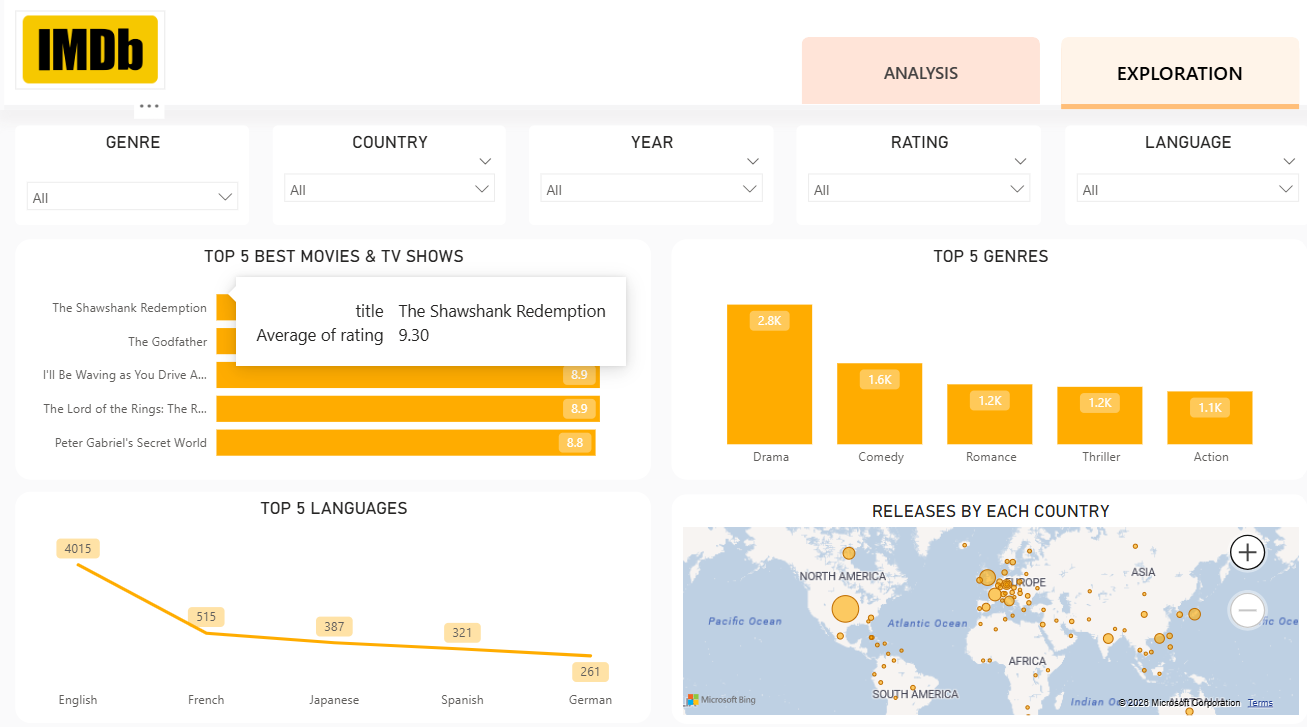

What the dashboard file says about the page in this screenshot:
{"tool":"powerbi","page":{"name":"EXPLORATION","canvas":[1280,720],"ordinal":1},"visuals":[{"type":"shape","box":[0,0,1280,113],"z":0},{"type":"pageNavigator","box":[769.4,37.2,492,75.8],"z":1000},{"type":"image","box":[15.7,17.2,144.4,75.8],"z":2000},{"type":"slicer","title":"COUNTRY","fields":{"Values":["country_count.Value"]},"box":[264,127.6,225.2,95.9],"z":3000},{"type":"slicer","title":"YEAR","fields":{"Values":["cleaned_imdb_dataset.year"]},"box":[511.4,127.6,236.3,95.9],"z":4000},{"type":"slicer","title":"RATING","fields":{"Values":["cleaned_imdb_dataset.rating"]},"box":[770,127.6,236.3,95.9],"z":5000},{"type":"slicer","title":"LANGUAGE","fields":{"Values":["language_count.Value"]},"box":[1028.6,127.6,236.3,95.9],"z":6000},{"type":"slicer","title":"GENRE","fields":{"Values":["genre_count.Value"]},"box":[15.7,127.3,226,95.8],"z":7000},{"type":"clusteredBarChart","title":"TOP 5 BEST MOVIES & TV SHOWS","fields":{"Category":["top_n_movies.title"],"Y":["Avg(top_n_movies.rating)"]},"box":[15.7,237.4,613.5,231.7],"z":8000},{"type":"columnChart","title":"TOP 5 GENRES","fields":{"Category":["genre_count.Value"],"Y":["Avg(genre_count.Count)"]},"box":[649.3,237.4,615,231.7],"z":9000},{"type":"lineChart","title":"TOP 5 LANGUAGES","fields":{"Category":["language_count.Value"],"Y":["Sum(language_count.Count)"]},"box":[15.7,482,613.5,223.1],"z":10000},{"type":"map","title":"RELEASES BY EACH COUNTRY","fields":{"Category":["country_count.Value"],"Size":["Sum(country_count.Count)"]},"box":[649.3,483.4,615,221.7],"z":11000}]}

Visuals, with their boxes in screenshot pixels (x1, y1, x2, y2), scaled from the page's 1280x720 canvas onto the 1307x727 screenshot:
shape: select_region(0, 0, 1306, 114)
pageNavigator: select_region(786, 38, 1288, 114)
image: select_region(16, 17, 163, 94)
"COUNTRY" slicer: select_region(270, 129, 500, 226)
"YEAR" slicer: select_region(522, 129, 763, 226)
"RATING" slicer: select_region(786, 129, 1028, 226)
"LANGUAGE" slicer: select_region(1050, 129, 1292, 226)
"GENRE" slicer: select_region(16, 129, 247, 225)
"TOP 5 BEST MOVIES & TV SHOWS" clusteredBarChart: select_region(16, 240, 642, 474)
"TOP 5 GENRES" columnChart: select_region(663, 240, 1291, 474)
"TOP 5 LANGUAGES" lineChart: select_region(16, 487, 642, 712)
"RELEASES BY EACH COUNTRY" map: select_region(663, 488, 1291, 712)
